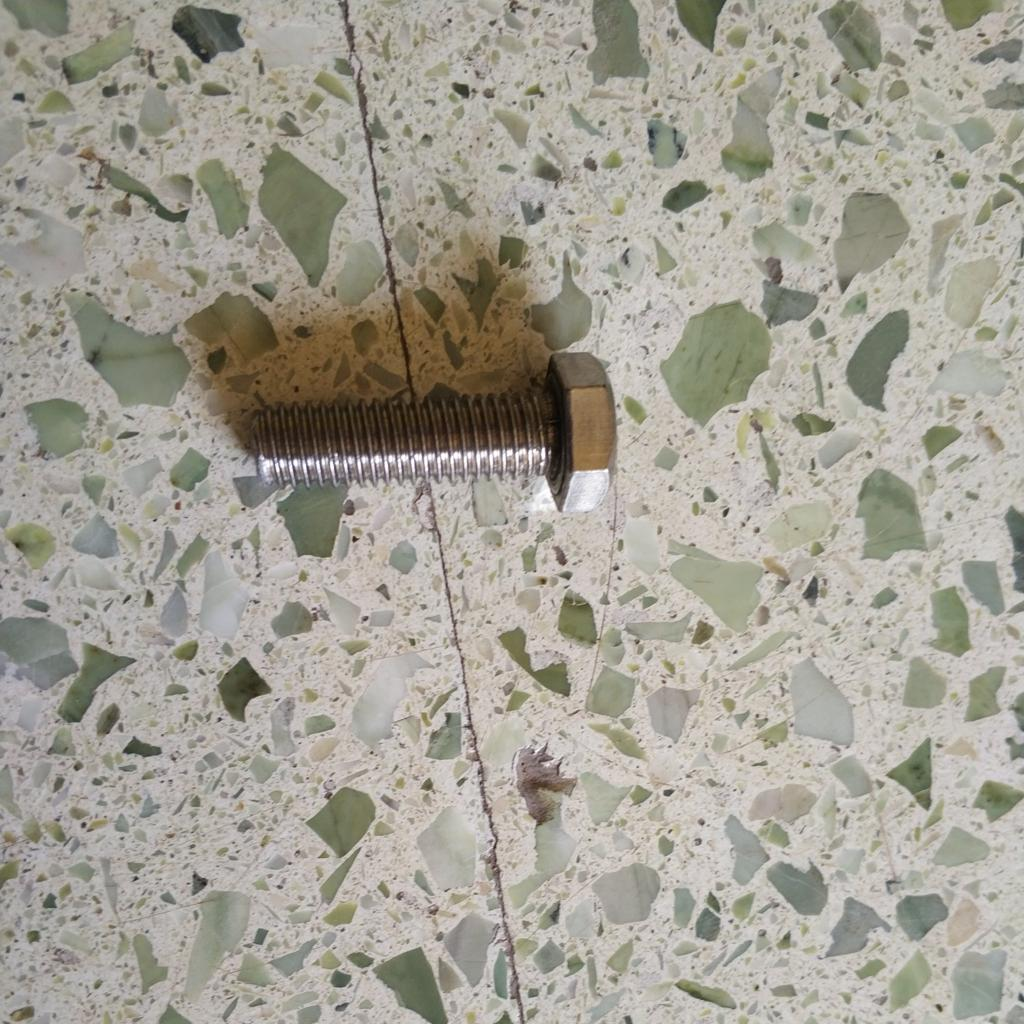screwtype2silver: (249, 345, 619, 520)
